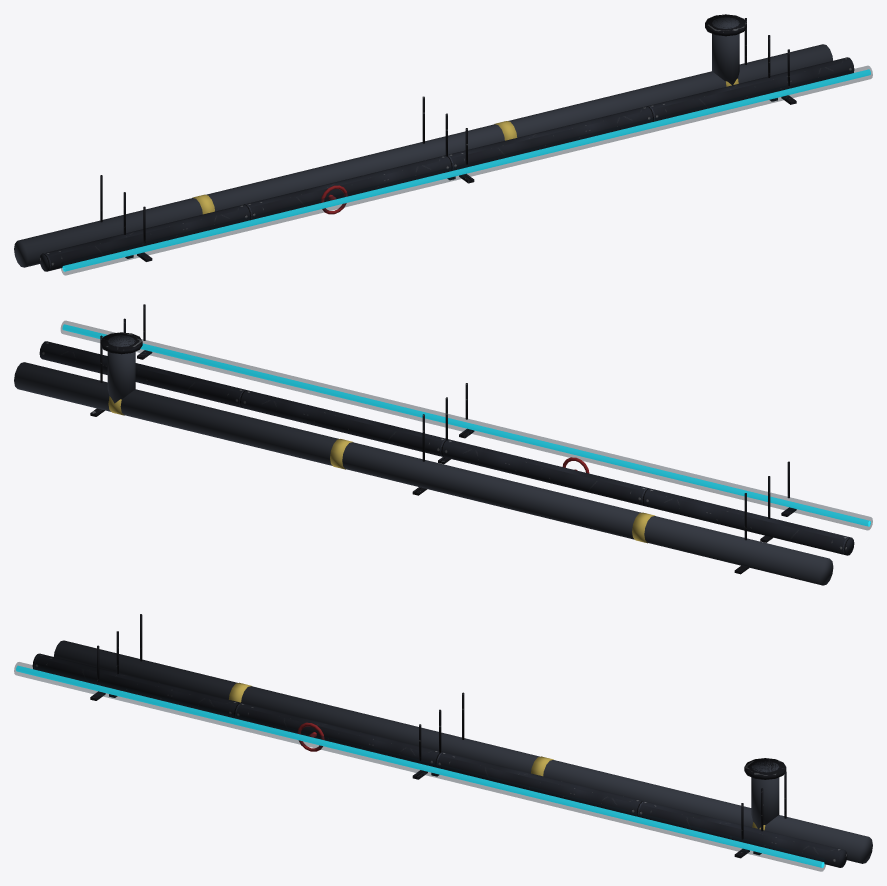
Rendered from Arch_Ceiling_PipeRun_4m.gltf.
3 renders of one model, top to bottom at view 1: azimuth 30°, elevation 25°; view 2: azimuth 150°, elevation 25°; view 3: azimuth 330°, elevation 25°, orthographic.
Visible parts, largest first — view 1: Arch_Ceiling_PipeRun_4m; view 2: Arch_Ceiling_PipeRun_4m; view 3: Arch_Ceiling_PipeRun_4m.
Part boxes in pixels (x1,y1,x2,y2): Arch_Ceiling_PipeRun_4m: [14, 14, 872, 275]; Arch_Ceiling_PipeRun_4m: [14, 304, 872, 585]; Arch_Ceiling_PipeRun_4m: [14, 614, 872, 871].
Bounding box in the file's own units: 4 × 0.352 × 0.5.
7 materials, 2 textured.
